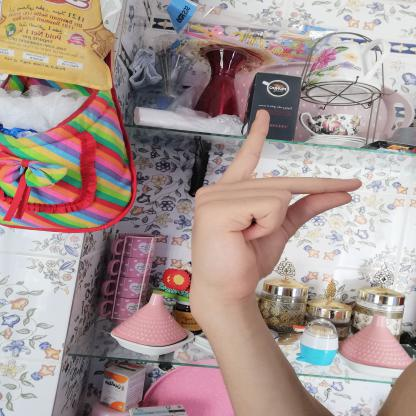TAA: (180, 101, 371, 313)
